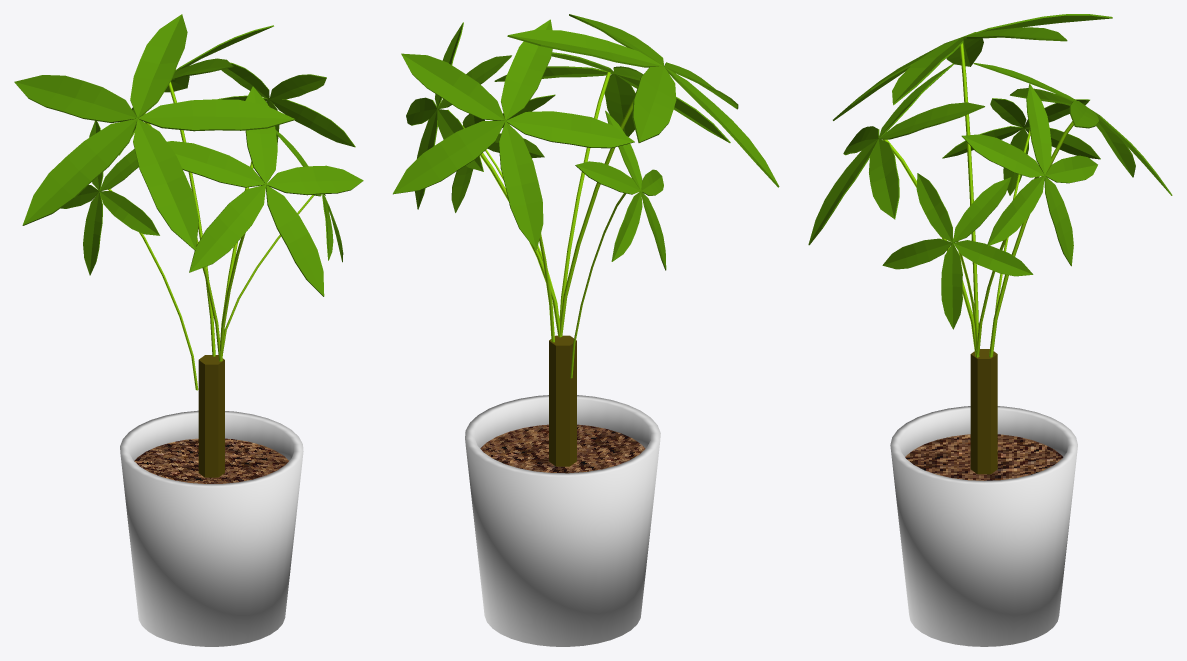
File: pachira.glb
3 renders of one model, left to right at view 1: azimuth 30°, elevation 25°; view 2: azimuth 150°, elevation 25°; view 3: azimuth 270°, elevation 25°, orthographic. The views are drawn at different scales.
Parts seen in each view (by area): view 1: Leaf (×6), Pot, Cylinder, BézierCurve.004, BézierCurve.003; view 2: Pot, Leaf (×6), Cylinder, BézierCurve.002, BézierCurve, BézierCurve.005; view 3: Pot, Leaf (×6), Cylinder, BézierCurve.002, BézierCurve.004, BézierCurve.
Boxes of the visible parts, bbox=[...] form: Leaf (×6): bbox=[14, 14, 363, 296]; Pot: bbox=[120, 410, 303, 646]; Cylinder: bbox=[198, 355, 224, 477]; BézierCurve.004: bbox=[168, 82, 215, 356]; BézierCurve.003: bbox=[108, 189, 198, 390]; Pot: bbox=[465, 395, 660, 646]; Leaf (×6): bbox=[393, 14, 779, 270]; Cylinder: bbox=[549, 335, 576, 466]; BézierCurve.002: bbox=[559, 99, 633, 336]; BézierCurve: bbox=[559, 71, 610, 336]; BézierCurve.005: bbox=[447, 109, 560, 337]; Pot: bbox=[890, 406, 1077, 646]; Leaf (×6): bbox=[808, 14, 1172, 329]; Cylinder: bbox=[970, 349, 997, 474]; BézierCurve.002: bbox=[959, 43, 978, 357]; BézierCurve.004: bbox=[989, 121, 1073, 357]; BézierCurve: bbox=[883, 139, 979, 357].
Bounding box in the file's own units: 0.6003 × 0.9561 × 0.5433.
5 materials, 1 textured.
